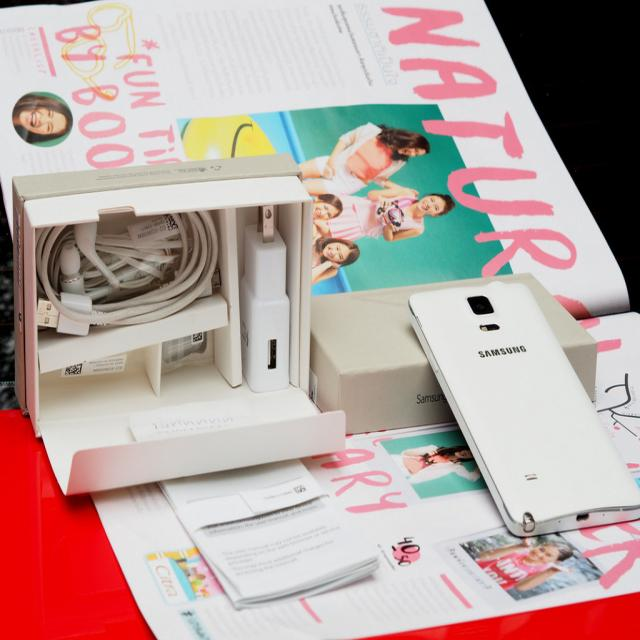Mobile-phone: (415, 280, 614, 554)
